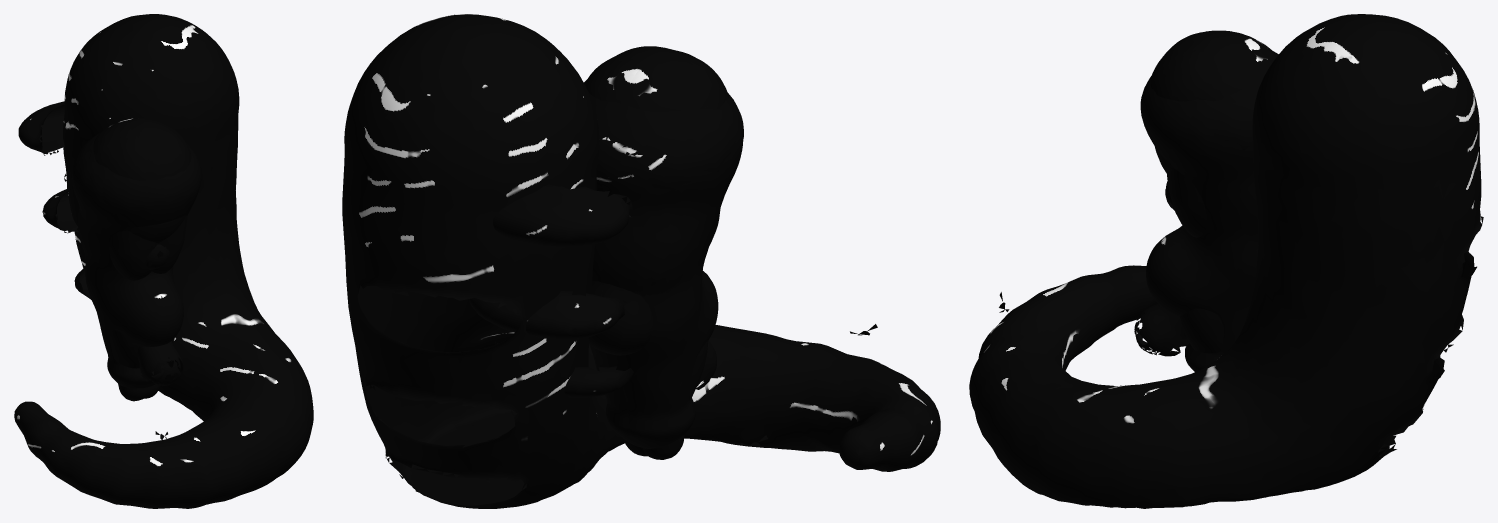
The model's file is CurseLegs.obj.
The picture shows the model from 3 angles, left to right: view 1: azimuth 30°, elevation 25°; view 2: azimuth 150°, elevation 25°; view 3: azimuth 270°, elevation 25°; orthographic projection. The views are drawn at different scales.
Visible parts, largest first — view 1: SerpentBody_Skin, MassiveLeg_Skin_L, MassiveLeg_Skin, HuskLeg_Skin_L, HuskLeg_Skin, SerpentBody_Flesh, DigitigradeLeg_Skin, DigitigradeLeg_Skin_L; view 2: SerpentBody_Skin, MassiveLeg_Skin_L, SerpentBody_Flesh, MassiveLeg_Skin, HuskLeg_Skin_L, HuskLeg_Skin, DigitigradeLeg_Skin; view 3: SerpentBody_Skin, MassiveLeg_Skin, HuskLeg_Skin, HuskLeg_Skin_L, MassiveLeg_Skin_L, DigitigradeLeg_Skin_L.
Part boxes in pixels (<box>): SerpentBody_Skin: <box>14,14,313,508</box>; MassiveLeg_Skin_L: <box>72,132,201,388</box>; MassiveLeg_Skin: <box>72,144,200,386</box>; HuskLeg_Skin_L: <box>94,118,191,401</box>; HuskLeg_Skin: <box>93,119,187,398</box>; SerpentBody_Flesh: <box>18,101,167,439</box>; DigitigradeLeg_Skin: <box>85,219,183,385</box>; DigitigradeLeg_Skin_L: <box>131,215,185,385</box>; SerpentBody_Skin: <box>342,14,940,508</box>; MassiveLeg_Skin_L: <box>592,97,743,448</box>; SerpentBody_Flesh: <box>469,184,877,397</box>; MassiveLeg_Skin: <box>583,80,743,447</box>; HuskLeg_Skin_L: <box>585,46,720,459</box>; HuskLeg_Skin: <box>586,46,728,456</box>; DigitigradeLeg_Skin: <box>597,282,716,389</box>; SerpentBody_Skin: <box>969,14,1483,508</box>; MassiveLeg_Skin: <box>1140,76,1261,371</box>; HuskLeg_Skin: <box>1150,32,1275,353</box>; HuskLeg_Skin_L: <box>1150,30,1276,101</box>; MassiveLeg_Skin_L: <box>1140,51,1278,350</box>; DigitigradeLeg_Skin_L: <box>1134,147,1189,356</box>.
Bounding box in the file's own units: 2.68 × 3.22 × 3.18.
9 materials, 9 textured.
